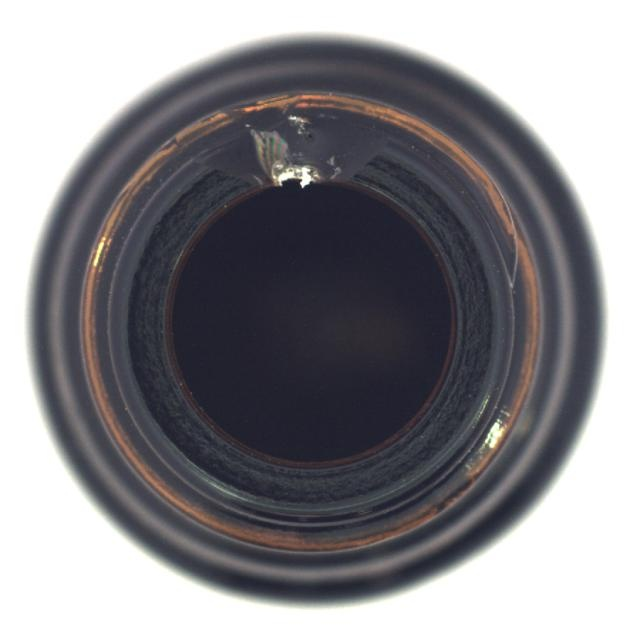bad-broken_small: (22, 32, 608, 610)
